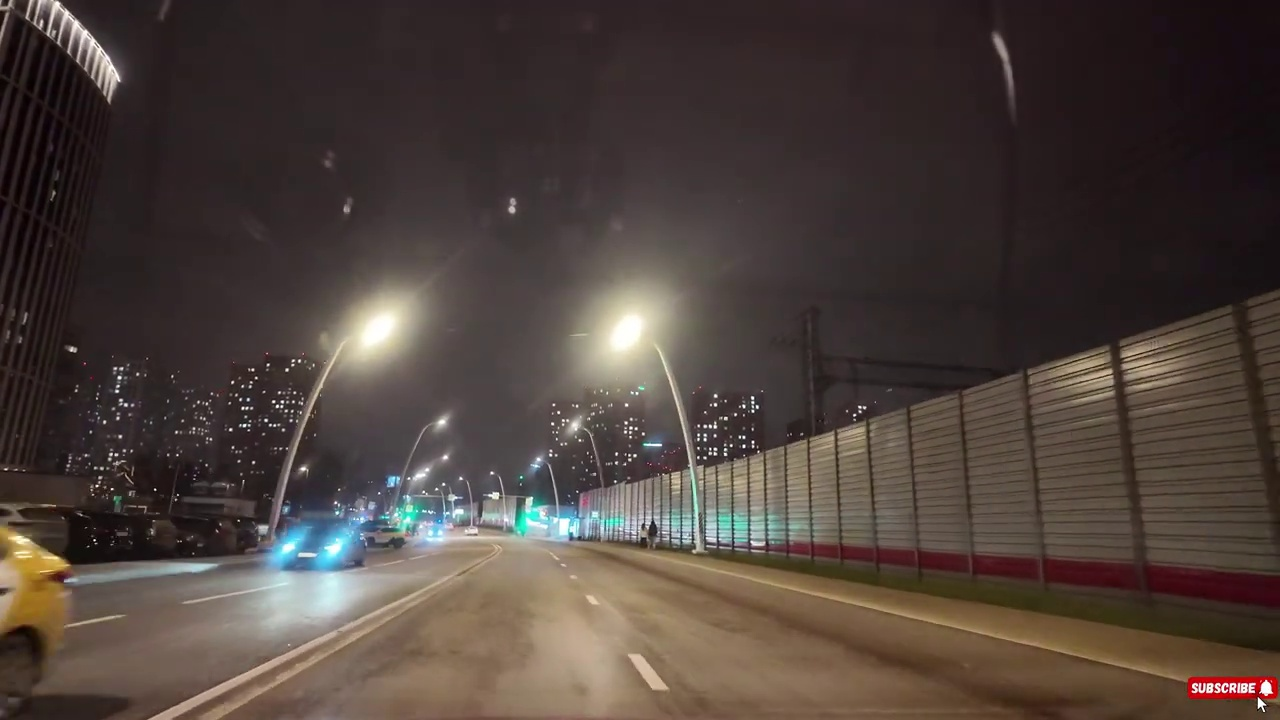acesa: (343, 301, 408, 363), (598, 302, 656, 362), (423, 407, 453, 440)
